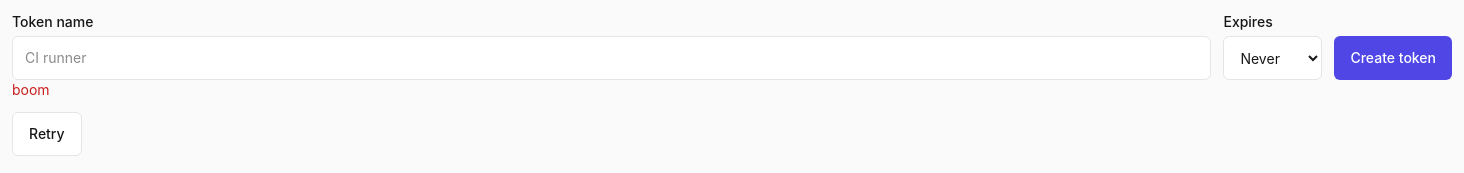
PersonalAccessTokens › reports a failed load instead of claiming there are no tokens, and retries
Expected: the message reads "boom", [12,81,50,98]
Click the button "Retry". click: (47, 134)
box: [12,112,82,156]
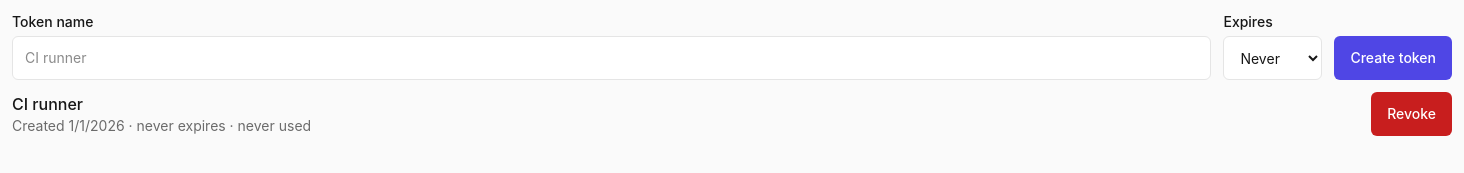
Result: the text "CI runner" is shown at [12,92,83,116]
Result: the message "boom" is gone
Result: the button "Retry" is gone
